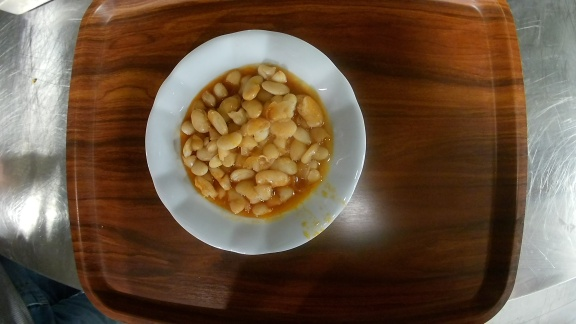kurufasulye: (145, 28, 366, 256)
